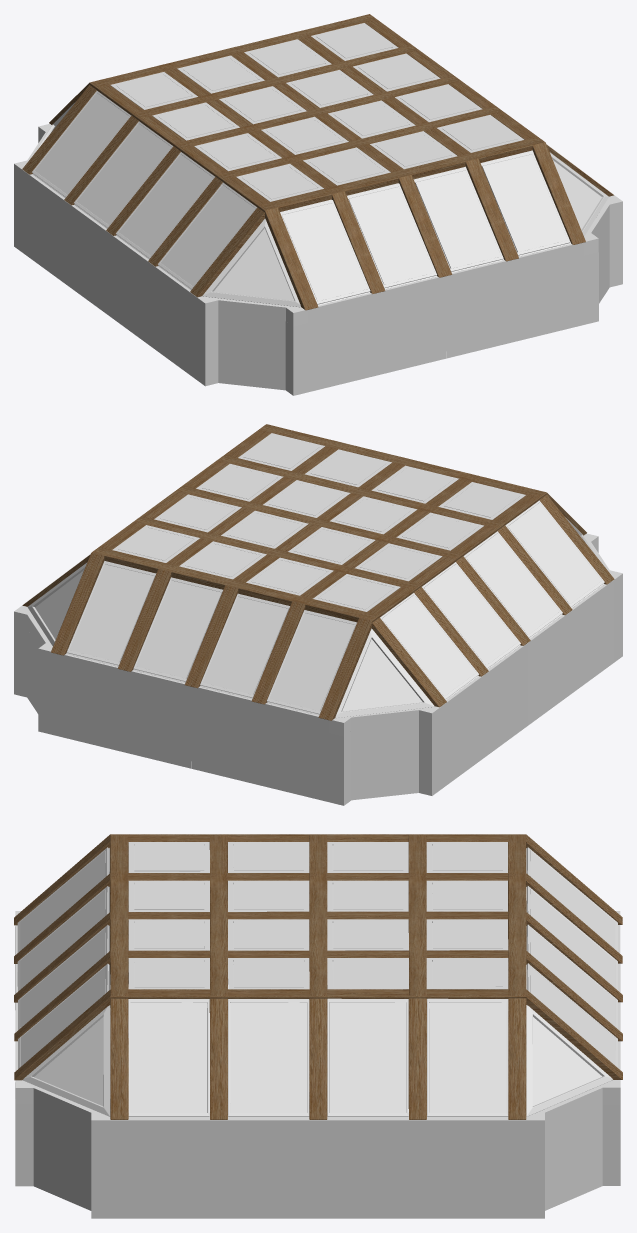
The model's file is room_with_windows_small.fbx.
The picture shows the model from 3 angles, top to bottom: view 1: azimuth 30°, elevation 25°; view 2: azimuth 150°, elevation 25°; view 3: azimuth 270°, elevation 25°; orthographic projection. The views are drawn at different scales.
Visible parts, largest first — view 1: walls, glas, glas.002, roof_structure2, roof_structure1, glas.001, windowframe2, Cube.040, window, window.004, Cube.041, Cube.037 (+2 smaller); view 2: walls, glas, glas.002, roof_structure2, roof_structure1, glas.001, windowframe2, Cube.038, window, window.004, Cube.039, Cube.023 (+1 smaller); view 3: walls, glas.001, glas, roof_structure2, roof_structure1, glas.002, windowframe2, window.004, Cube.023, Cube.037, window, Cube.036 (+1 smaller).
Boxes of the visible parts, left/top/right/bottom form: walls: left=14, top=123, right=622, bottom=395; glas: left=116, top=25, right=518, bottom=199; glas.002: left=282, top=154, right=567, bottom=301; roof_structure2: left=22, top=14, right=613, bottom=297; roof_structure1: left=49, top=14, right=585, bottom=310; glas.001: left=34, top=93, right=254, bottom=286; windowframe2: left=110, top=23, right=524, bottom=201; Cube.040: left=213, top=228, right=294, bottom=300; window: left=280, top=151, right=570, bottom=304; window.004: left=32, top=91, right=256, bottom=289; Cube.041: left=202, top=218, right=300, bottom=307; Cube.037: left=553, top=160, right=601, bottom=229; walls: left=14, top=533, right=622, bottom=805; glas: left=118, top=435, right=519, bottom=609; glas.002: left=69, top=564, right=355, bottom=711; roof_structure2: left=22, top=424, right=614, bottom=707; roof_structure1: left=51, top=424, right=586, bottom=720; glas.001: left=382, top=503, right=601, bottom=696; windowframe2: left=112, top=433, right=525, bottom=611; Cube.038: left=342, top=639, right=422, bottom=711; window: left=66, top=561, right=356, bottom=714; window.004: left=380, top=500, right=604, bottom=699; Cube.039: left=335, top=628, right=434, bottom=718; Cube.023: left=35, top=570, right=83, bottom=639; walls: left=15, top=911, right=620, bottom=1218; glas.001: left=130, top=871, right=506, bottom=1112; glas: left=134, top=843, right=502, bottom=987; roof_structure2: left=110, top=835, right=526, bottom=1119; roof_structure1: left=14, top=834, right=622, bottom=1080; glas.002: left=20, top=850, right=615, bottom=1066; windowframe2: left=128, top=842, right=508, bottom=989; window.004: left=128, top=998, right=508, bottom=1116; Cube.023: left=532, top=1017, right=602, bottom=1105; Cube.037: left=34, top=1017, right=103, bottom=1106; window: left=17, top=847, right=617, bottom=1068; Cube.036: left=22, top=1005, right=110, bottom=1116.
Size of the model in its own units: 1268 by 444 by 1347.
